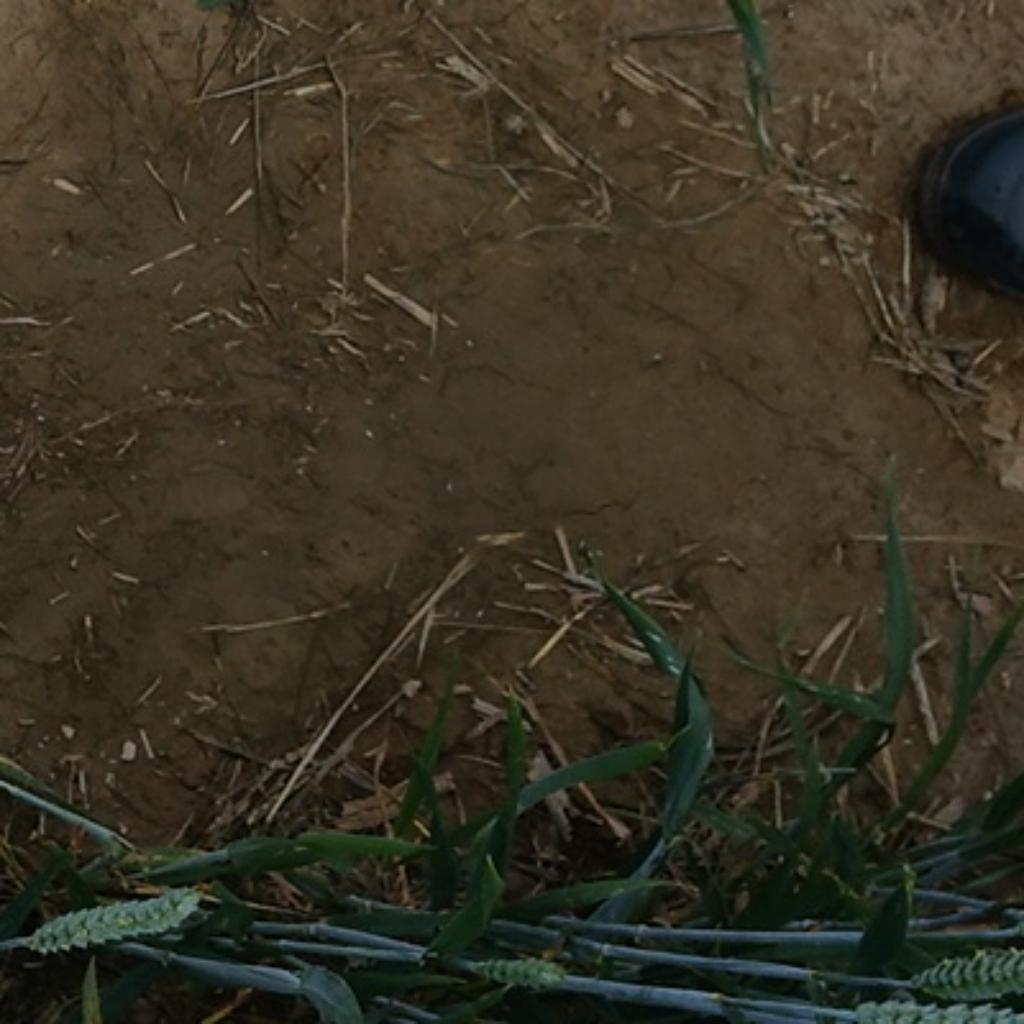0-0: (23, 880, 202, 957), (908, 947, 1021, 1006), (847, 994, 1023, 1024), (465, 947, 563, 990)
